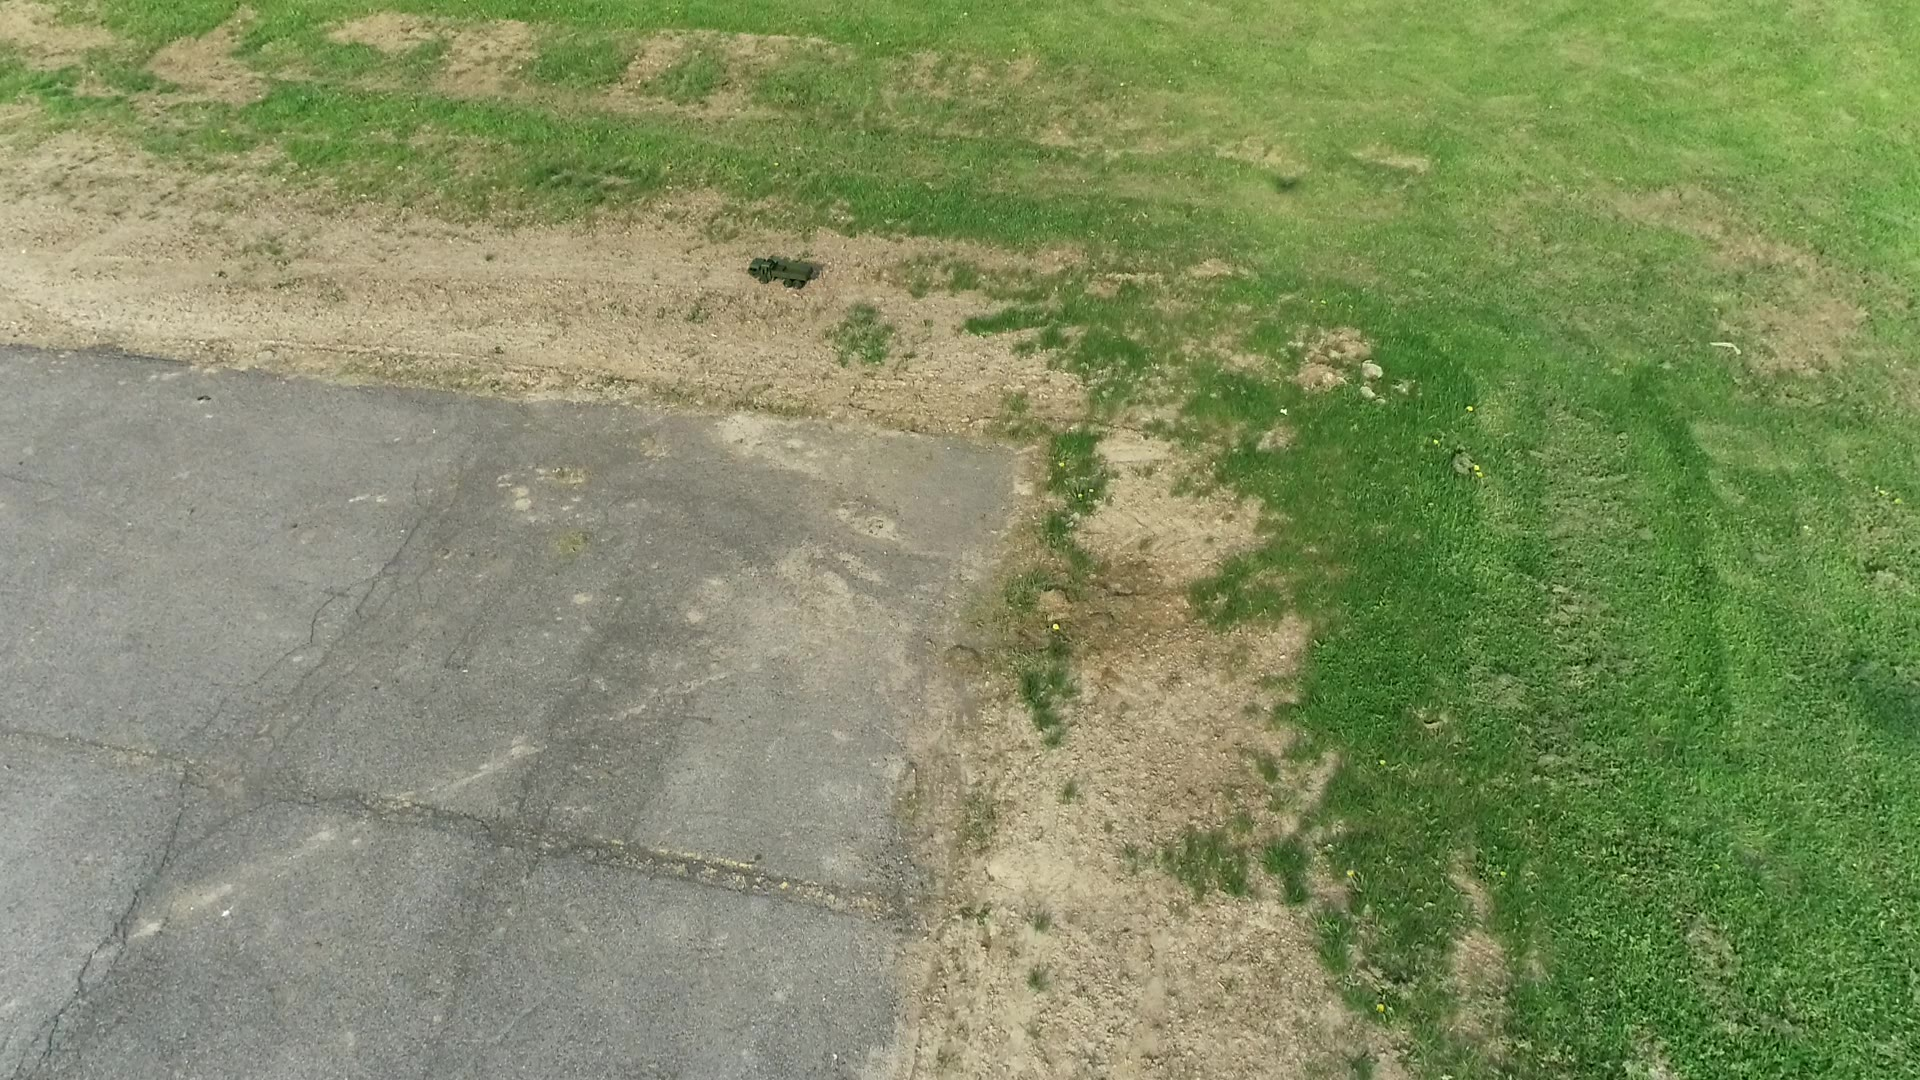transporter9: (744, 256, 815, 291)
